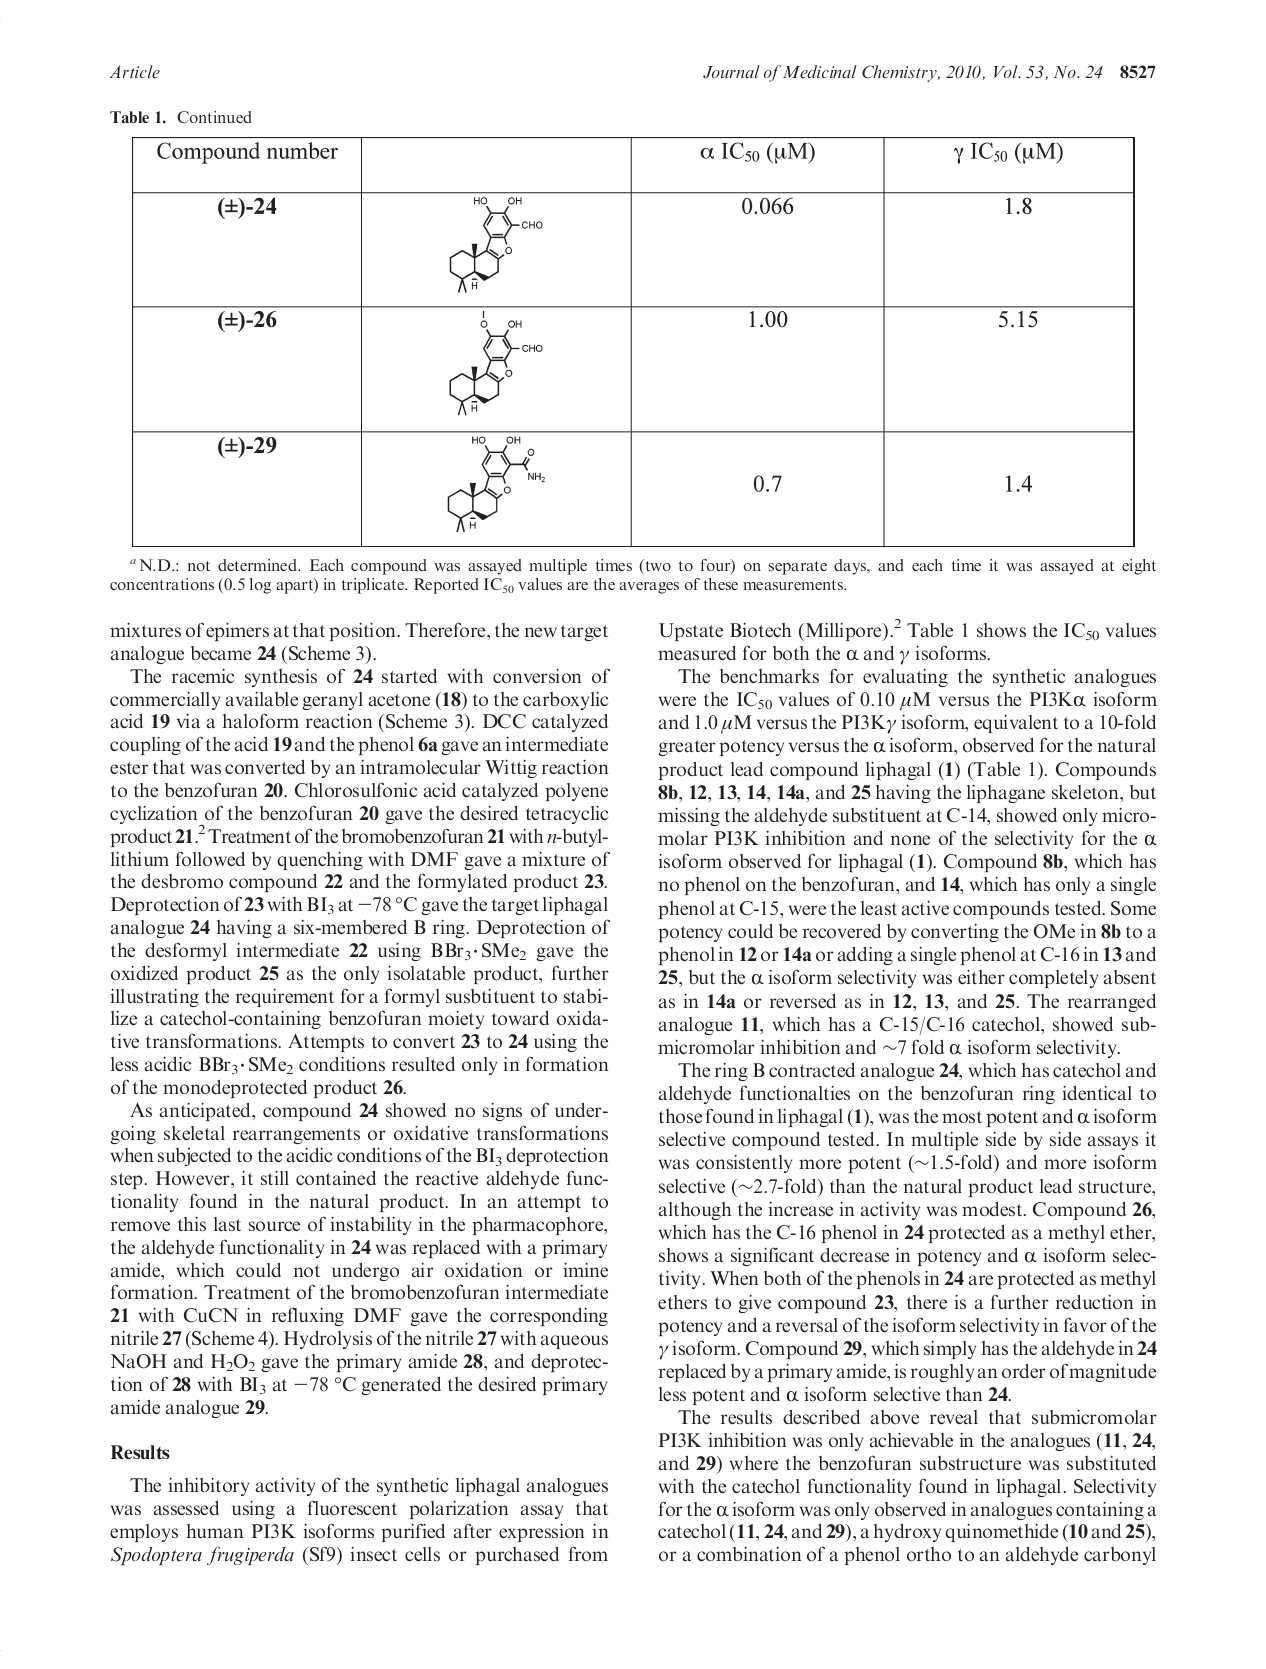exist_molecular: (448, 309, 545, 416), (445, 434, 548, 535), (448, 195, 544, 295)
